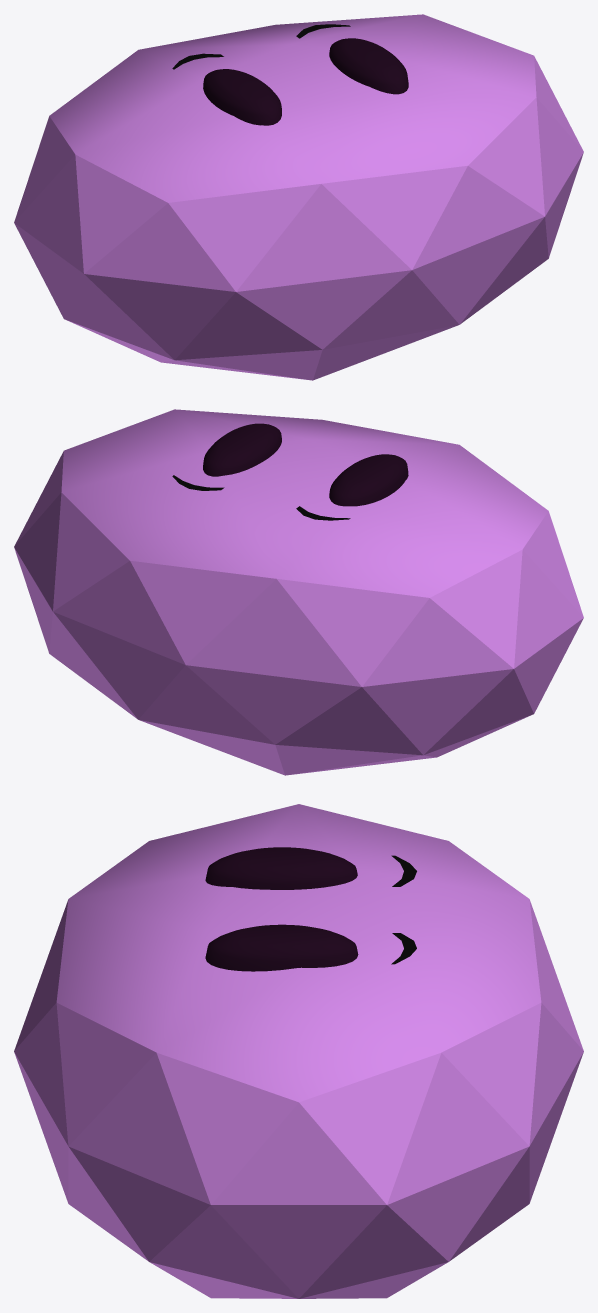
File: lon.glb
The picture shows the model from 3 angles, top to bottom: view 1: azimuth 30°, elevation 25°; view 2: azimuth 150°, elevation 25°; view 3: azimuth 270°, elevation 25°; orthographic projection. The views are drawn at different scales.
Parts seen in each view (by area): view 1: body, eyes; view 2: body, eyes; view 3: body, eyes.
Part boxes in pixels (<box>): body: <box>14,14,583,380</box>; eyes: <box>203,38,408,125</box>; body: <box>14,409,583,775</box>; eyes: <box>203,423,408,506</box>; body: <box>14,804,583,1298</box>; eyes: <box>205,847,358,971</box>.
Bounding box in the file's own units: 0.3968 × 0.2201 × 0.3111.
